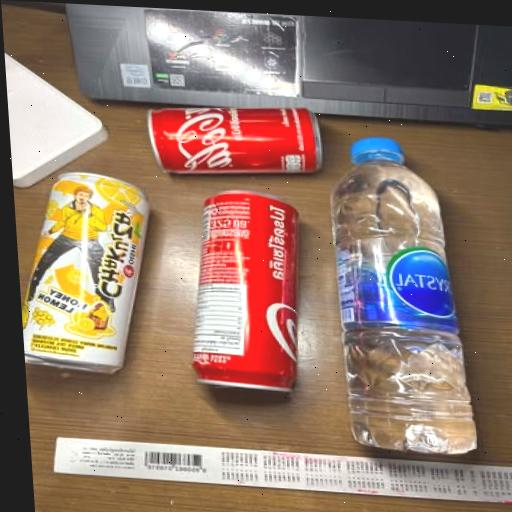bottle: (315, 123, 512, 472)
canned: (12, 152, 178, 403), (180, 175, 319, 418), (138, 94, 339, 184)
